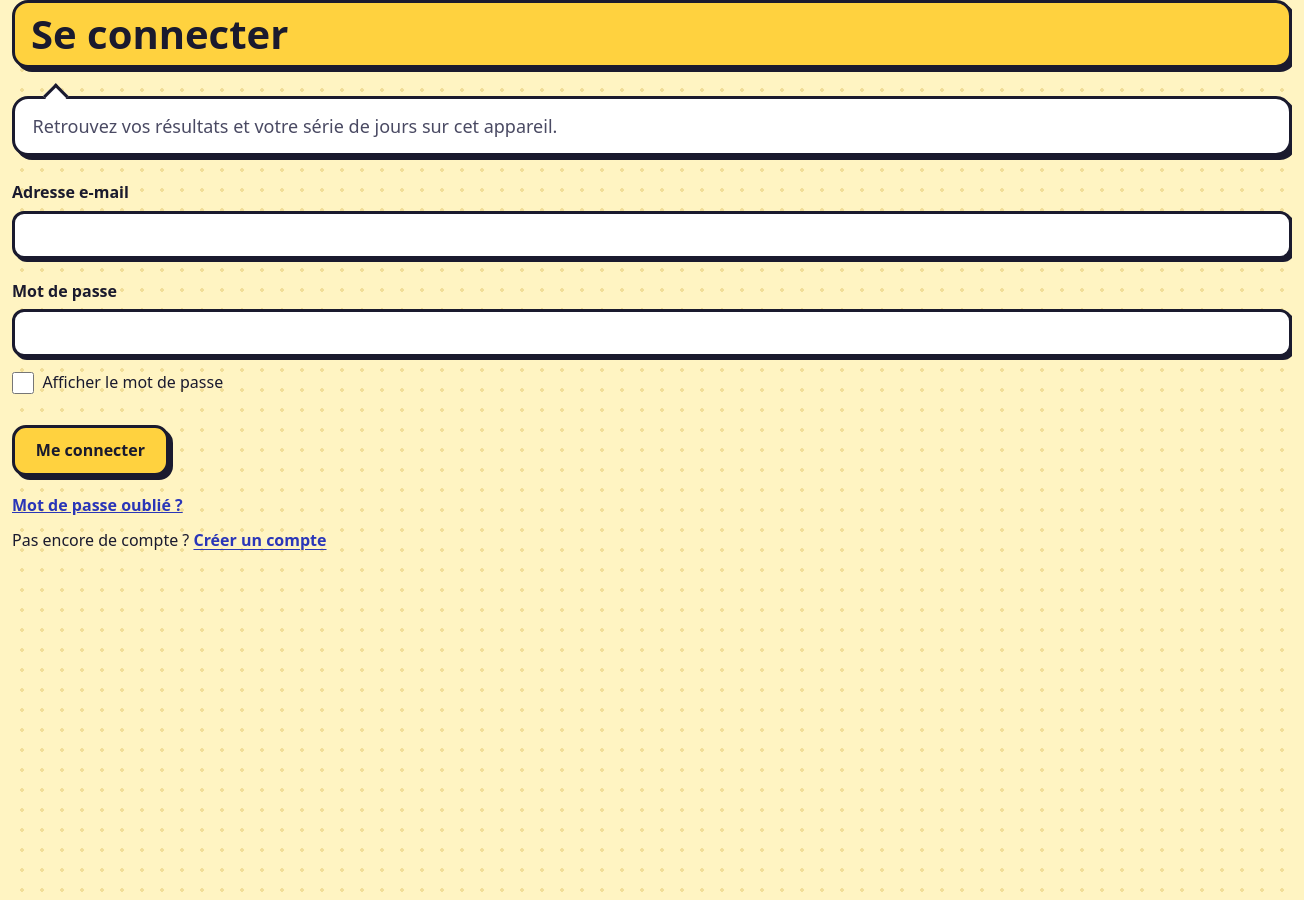
Test: AuthFormComponent › mot de passe oublié : exige un e-mail, puis répond toujours la même chose
Click the button "Mot de passe oublié ?".
click(97, 506)  # box [12,484,183,528]
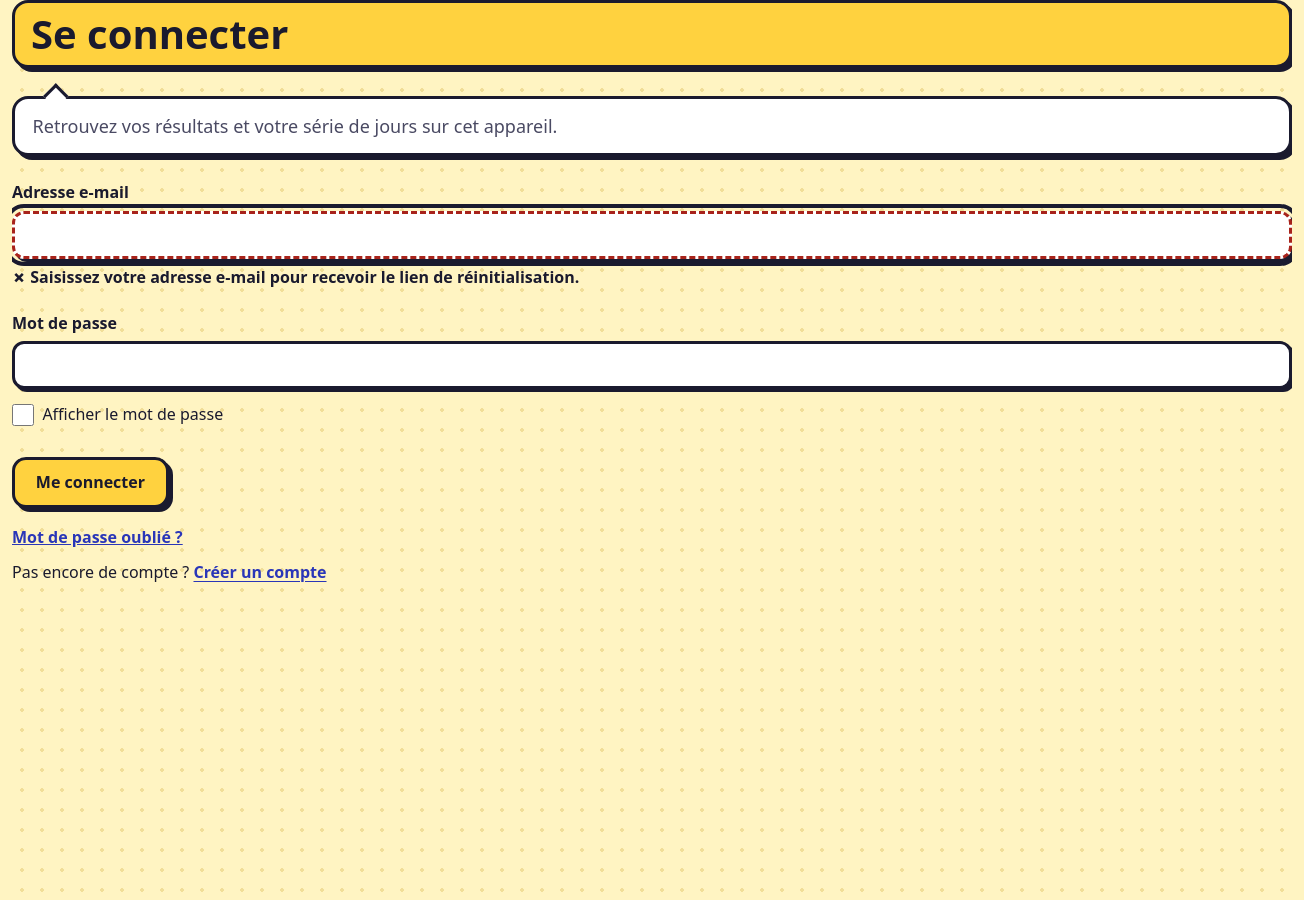
expect the element with id "email-error" shows "Saisissez votre adresse e-mail": met, box [26,266,579,288]
Type "a@b.fr" into the field with id "email".
click(652, 235); type("a@b.fr")  # box [12,211,1292,259]
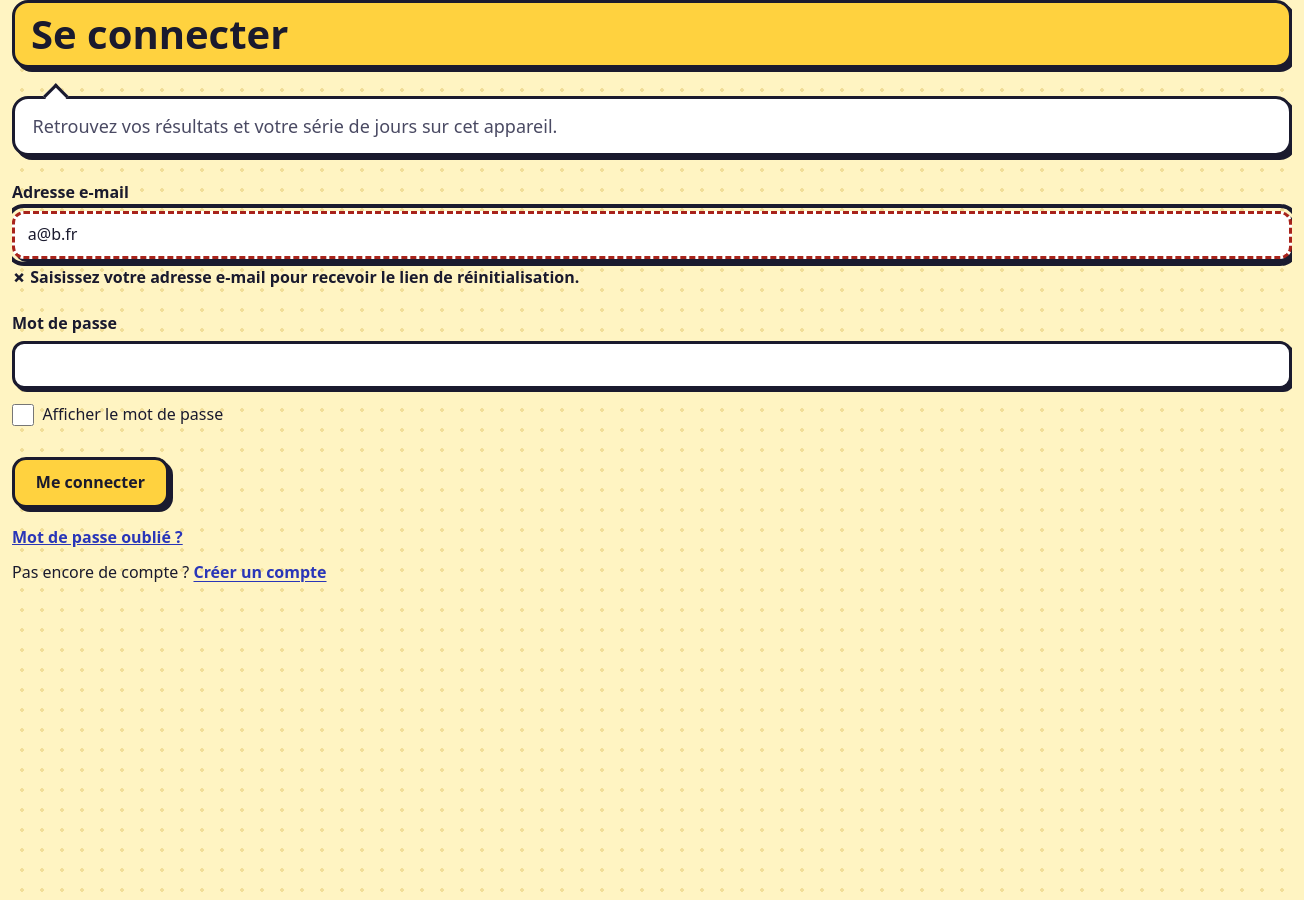
Click the button "Mot de passe oublié ?".
click(97, 538)  # box [12,516,183,560]
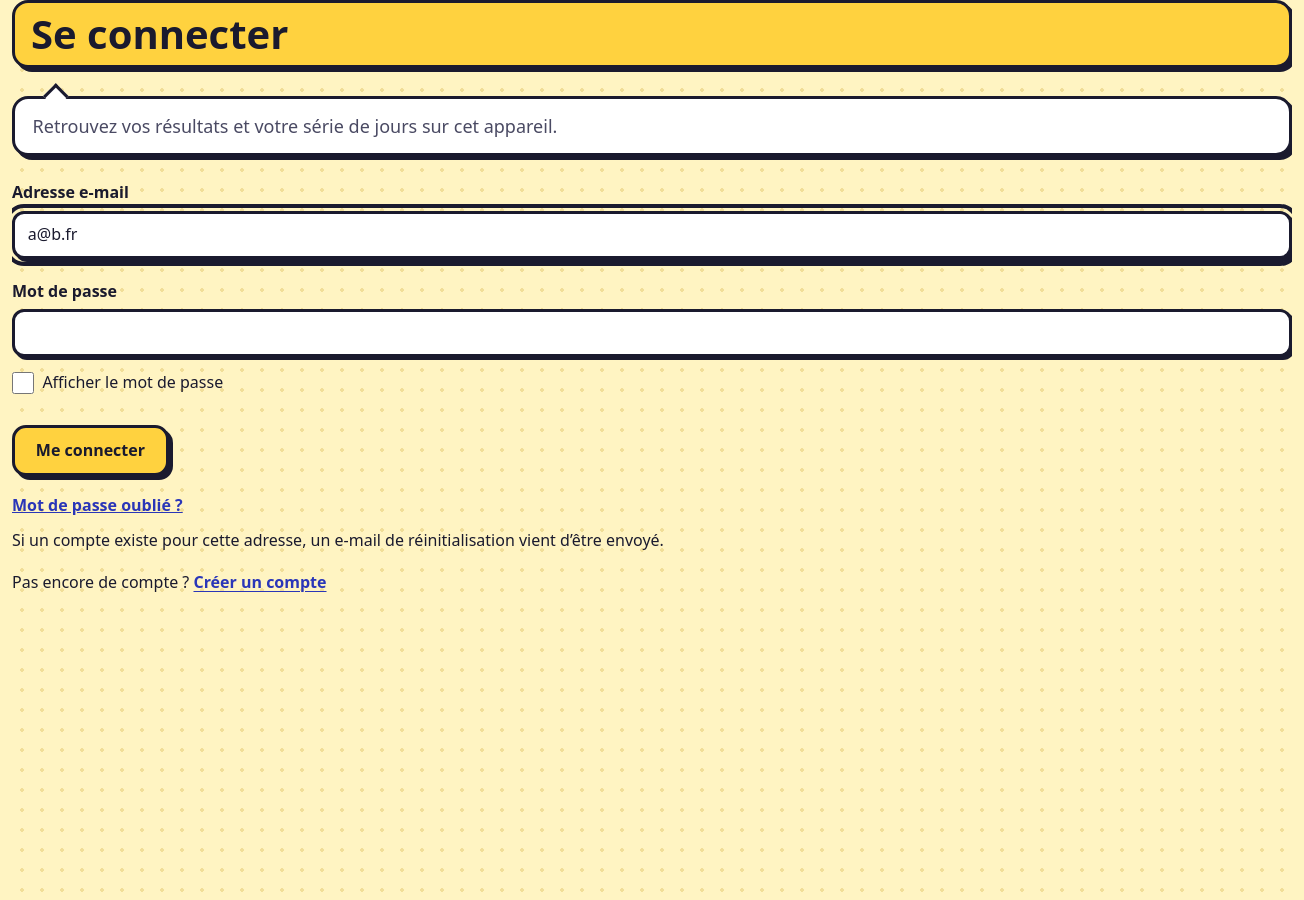
expect the message with class "form-info" shows "Si un compte existe": met, box [12,529,664,551]
